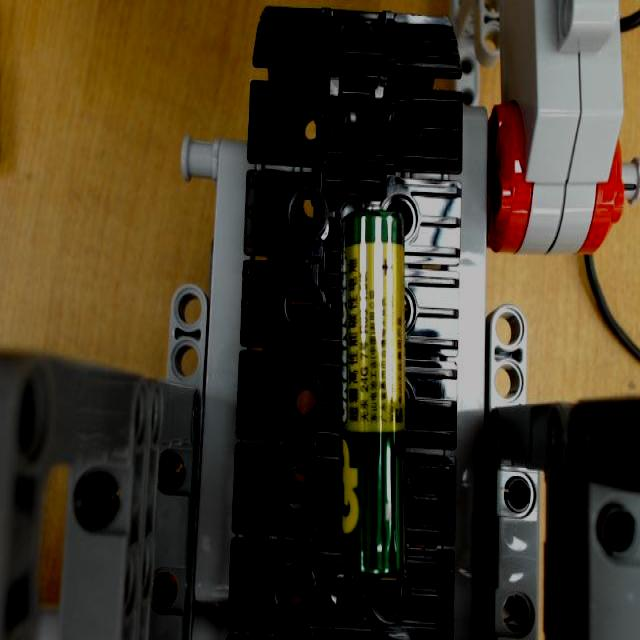AAA: (342, 200, 403, 584)
